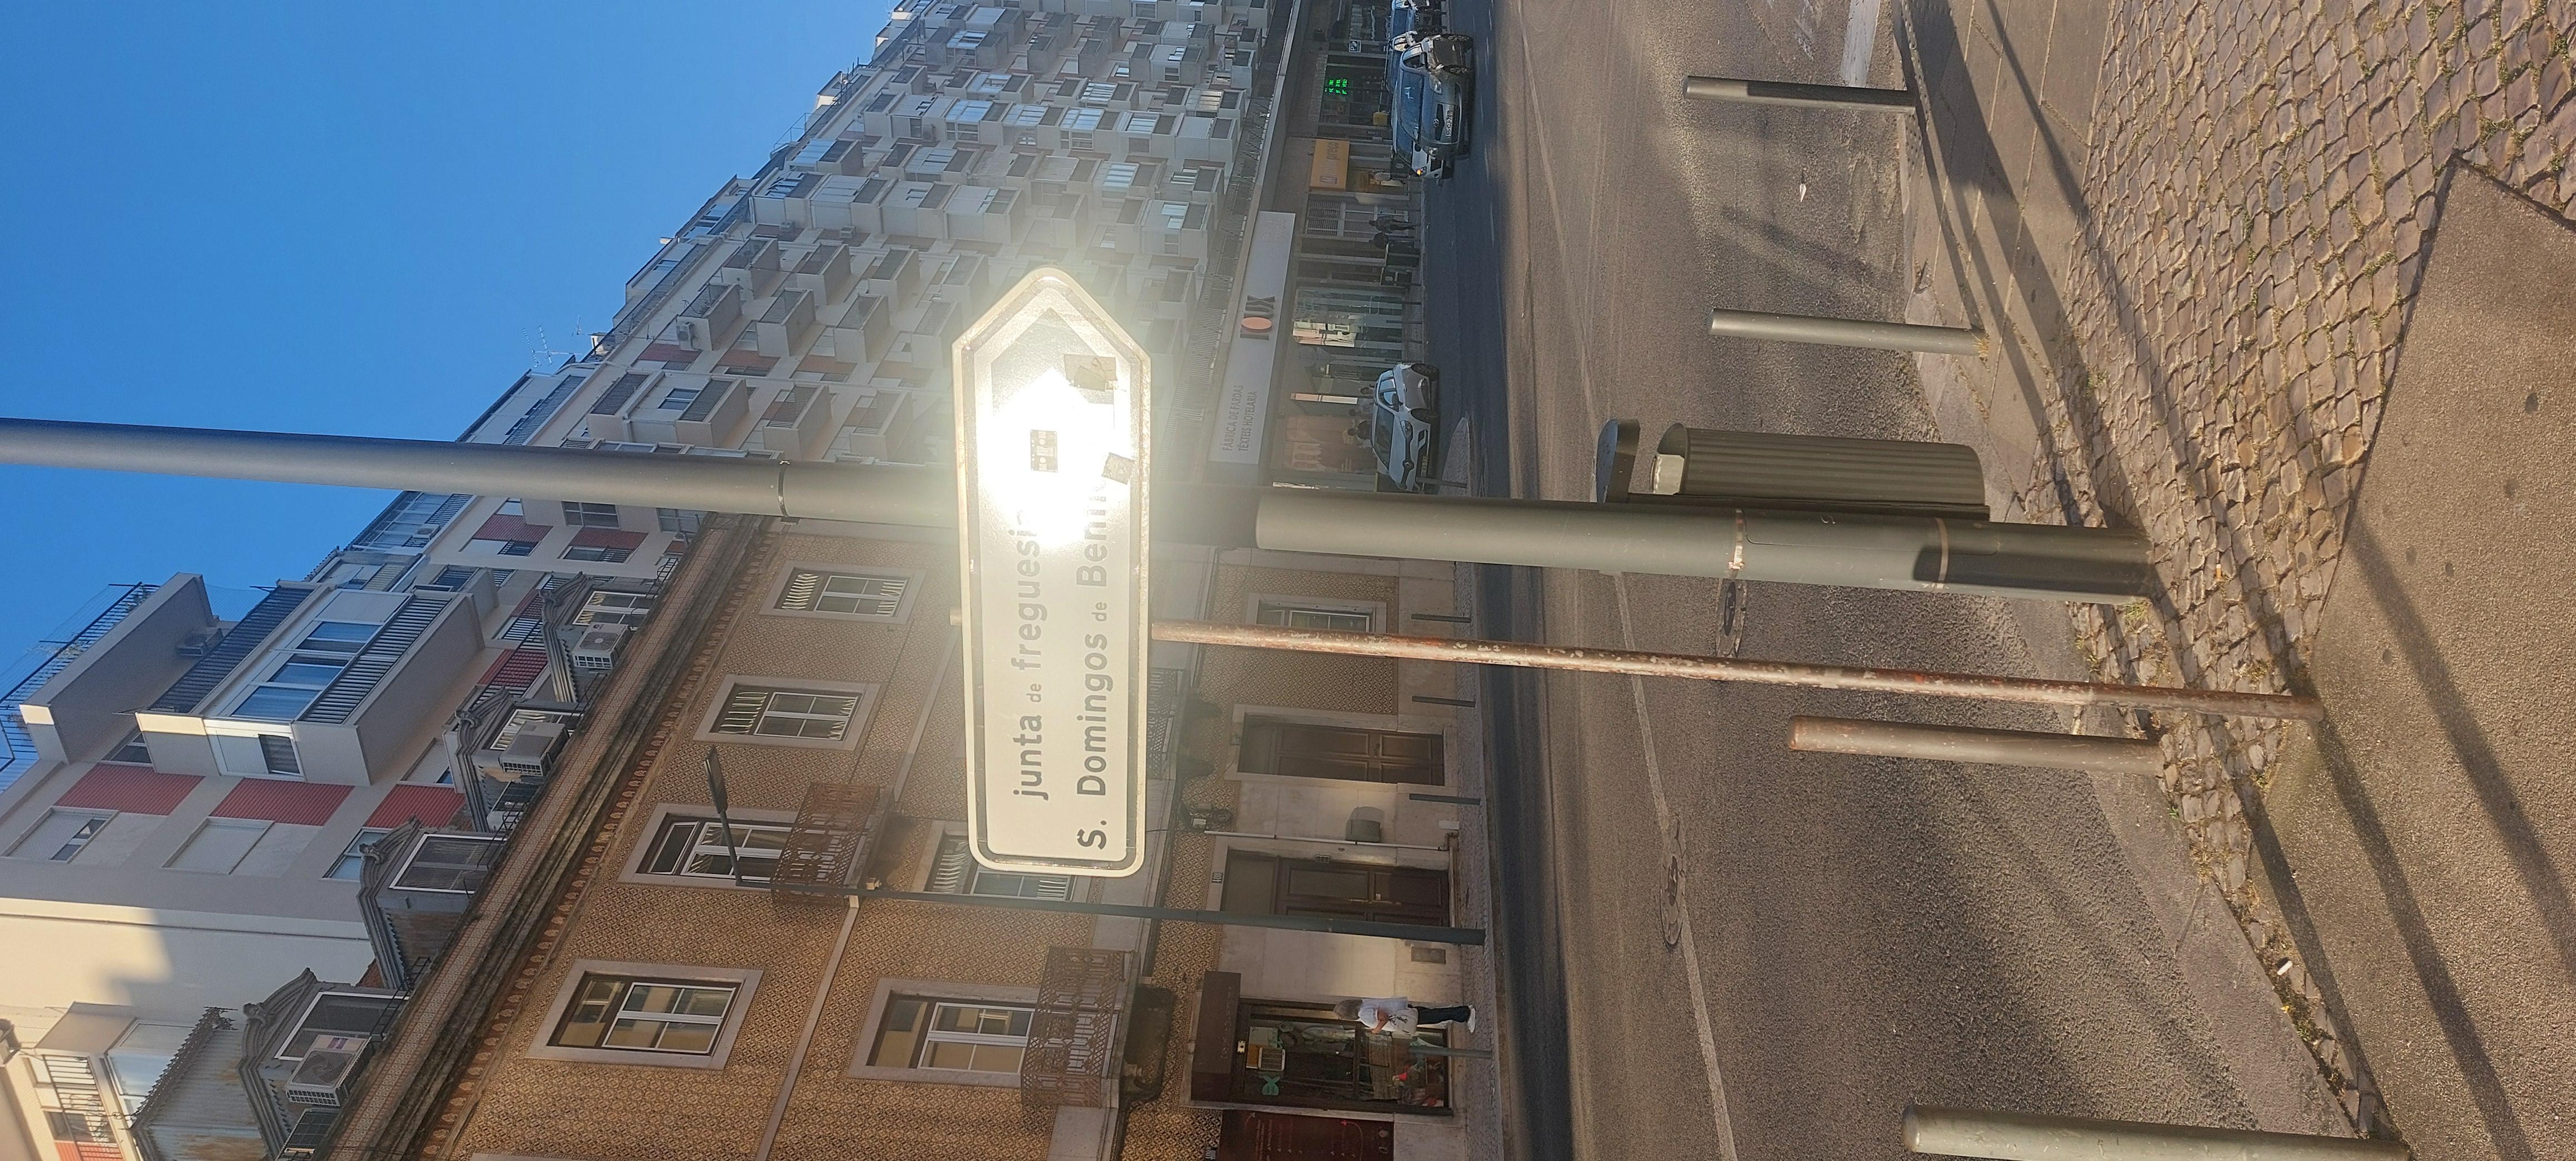direcao de via de acesso: (618, 430, 1983, 525)
